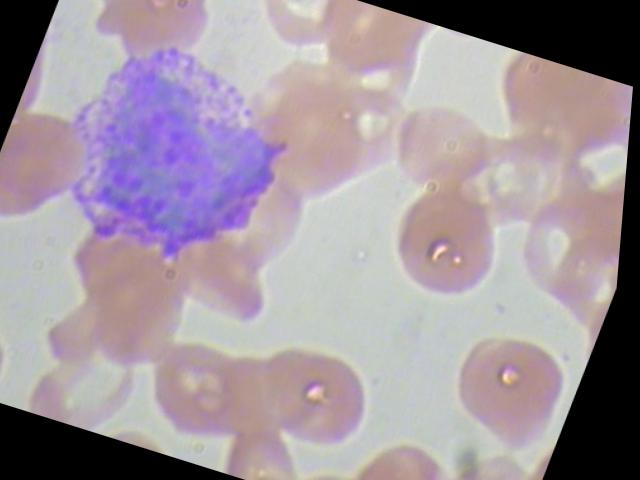Red Blood Cells: (369, 176, 525, 316), (427, 322, 583, 460), (475, 48, 636, 179), (0, 90, 118, 246), (455, 117, 594, 242), (372, 88, 510, 213), (264, 344, 402, 469), (229, 333, 367, 458), (175, 336, 313, 461), (131, 330, 269, 454), (497, 196, 626, 322), (79, 255, 201, 385), (20, 327, 159, 440), (149, 228, 291, 338), (307, 0, 435, 99), (536, 117, 632, 243), (226, 0, 353, 75), (332, 423, 482, 479), (0, 302, 46, 405)
White Blood Cells: (19, 24, 319, 282)
